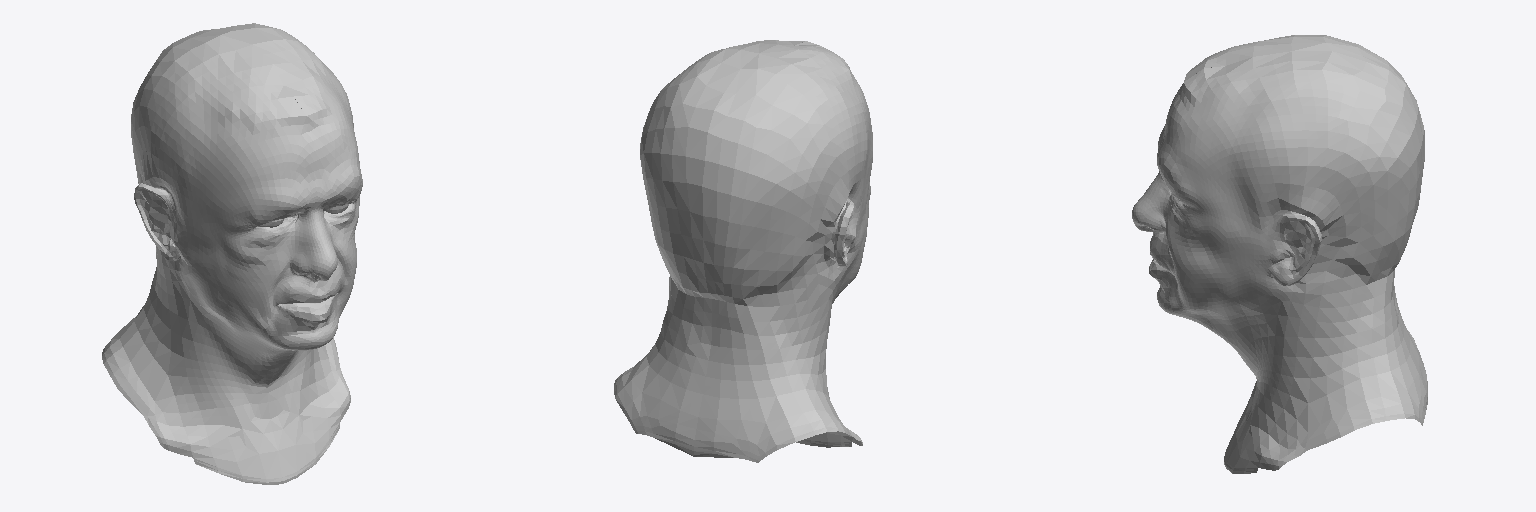
Rendered from receptayyiperdogan.obj.
The picture shows the model from 3 angles: view 1: azimuth 30°, elevation 25°; view 2: azimuth 150°, elevation 25°; view 3: azimuth 270°, elevation 25°; orthographic projection.
Visible parts, largest first — view 1: kafa; view 2: kafa; view 3: kafa.
Boxes of the visible parts, <box> form: kafa: <box>102,23,362,484</box>; kafa: <box>614,40,872,462</box>; kafa: <box>1132,35,1427,473</box>.
Bounding box in the file's own units: 1.33 × 2.43 × 1.58.